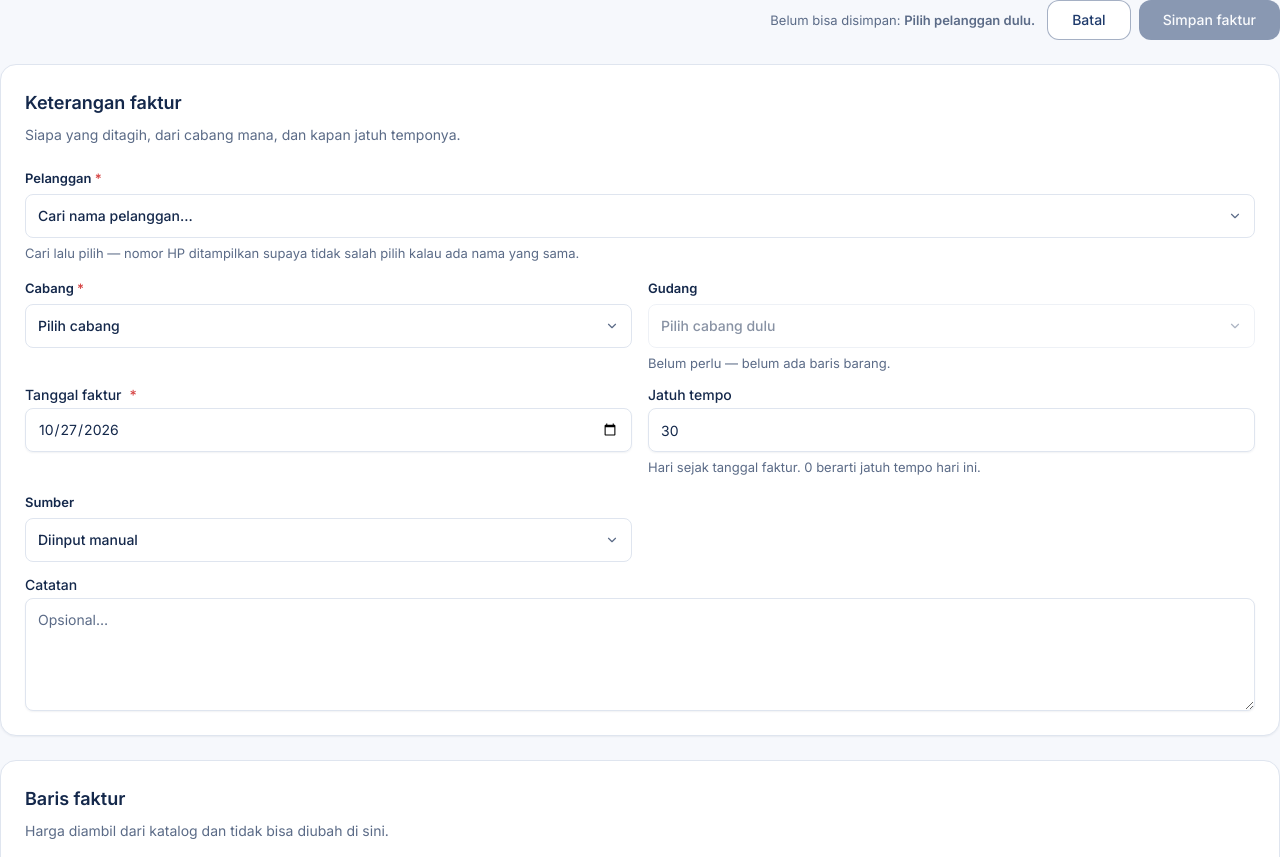
Test: scanning a barcode › a batch label › still adds the product from a lot recorded empty, and says so
Click the button "Pilih cabang". click: (79, 325)
box: [25, 304, 632, 348]
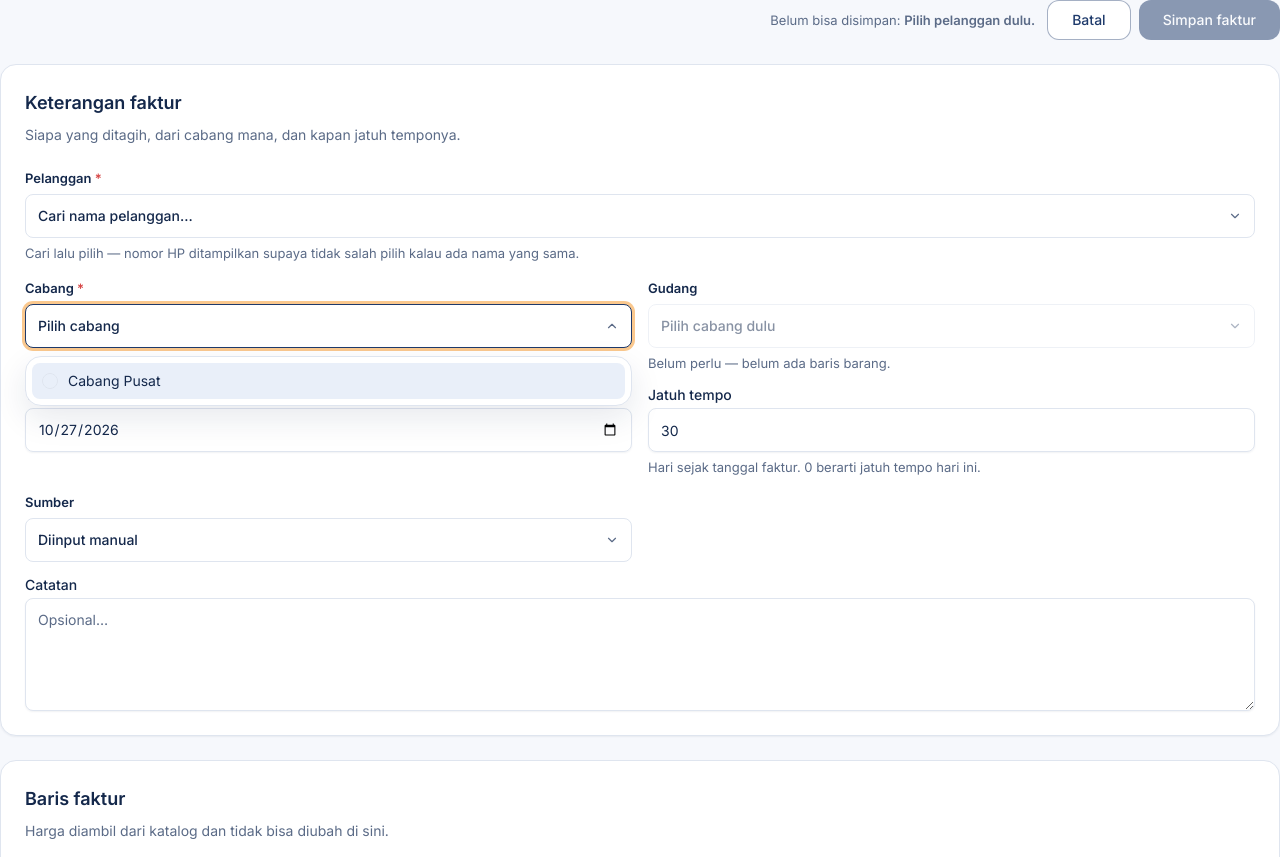
Click the option "Cabang Pusat". click: (114, 380)
box: [32, 363, 625, 399]
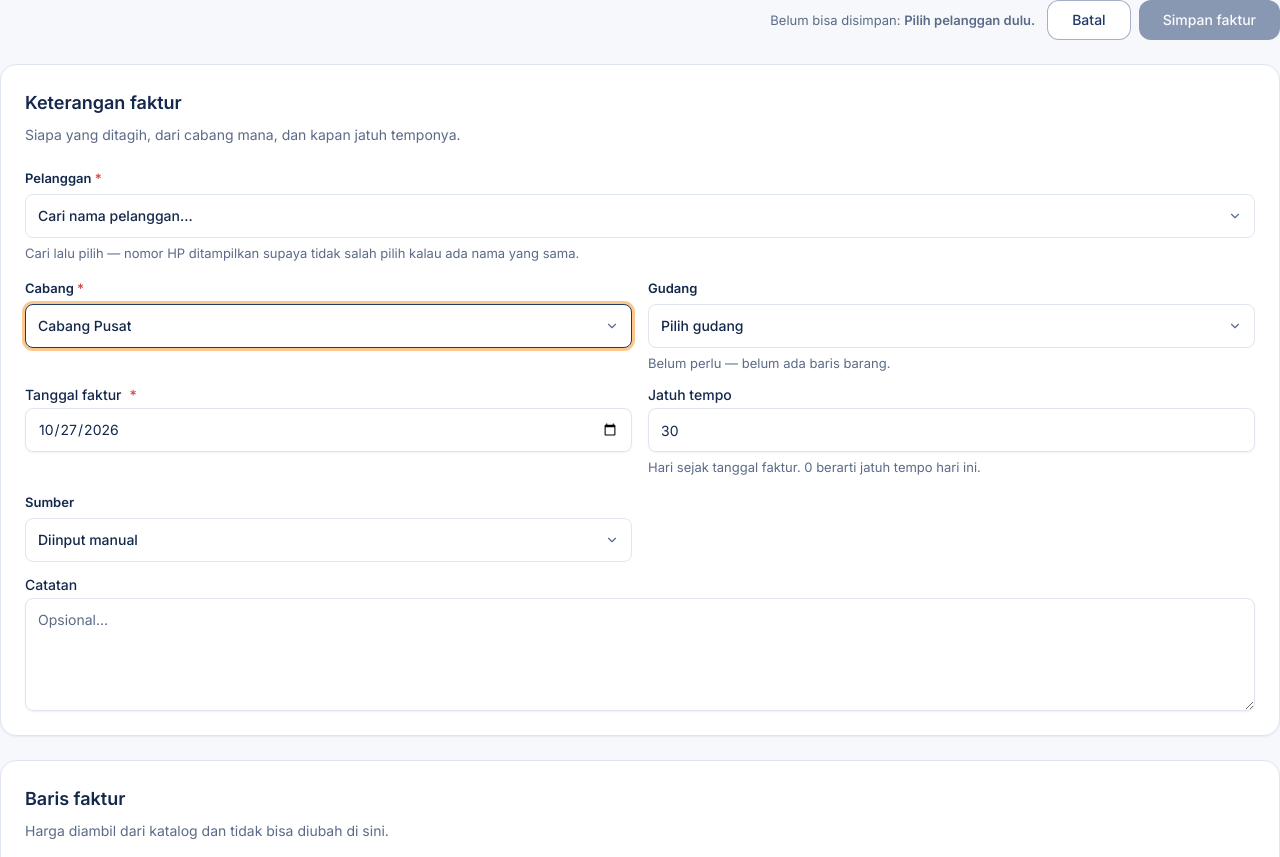
Click the button "Pilih gudang". click: (702, 325)
box: [648, 304, 1255, 348]
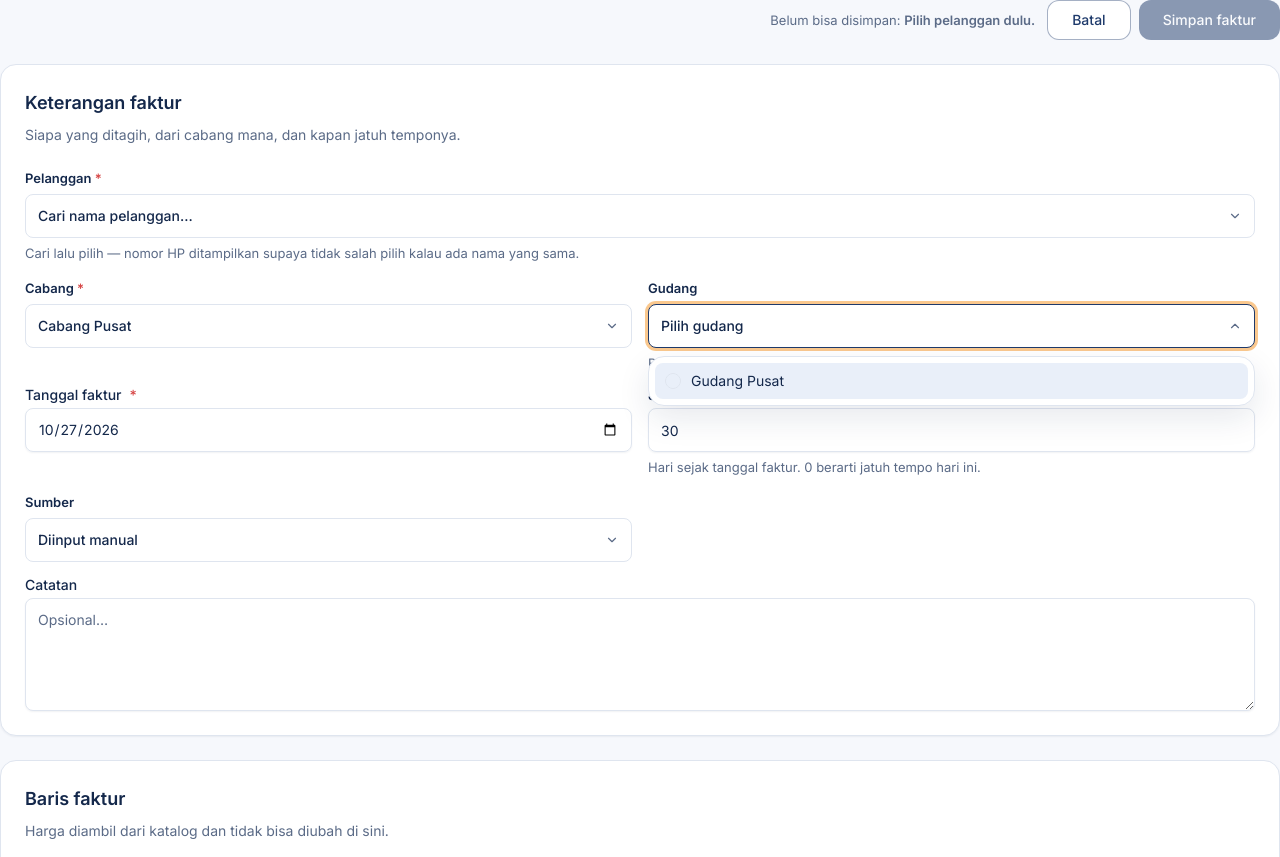
Click the option "Gudang Pusat". click: (738, 380)
box: [655, 363, 1248, 399]
(page scrolled)
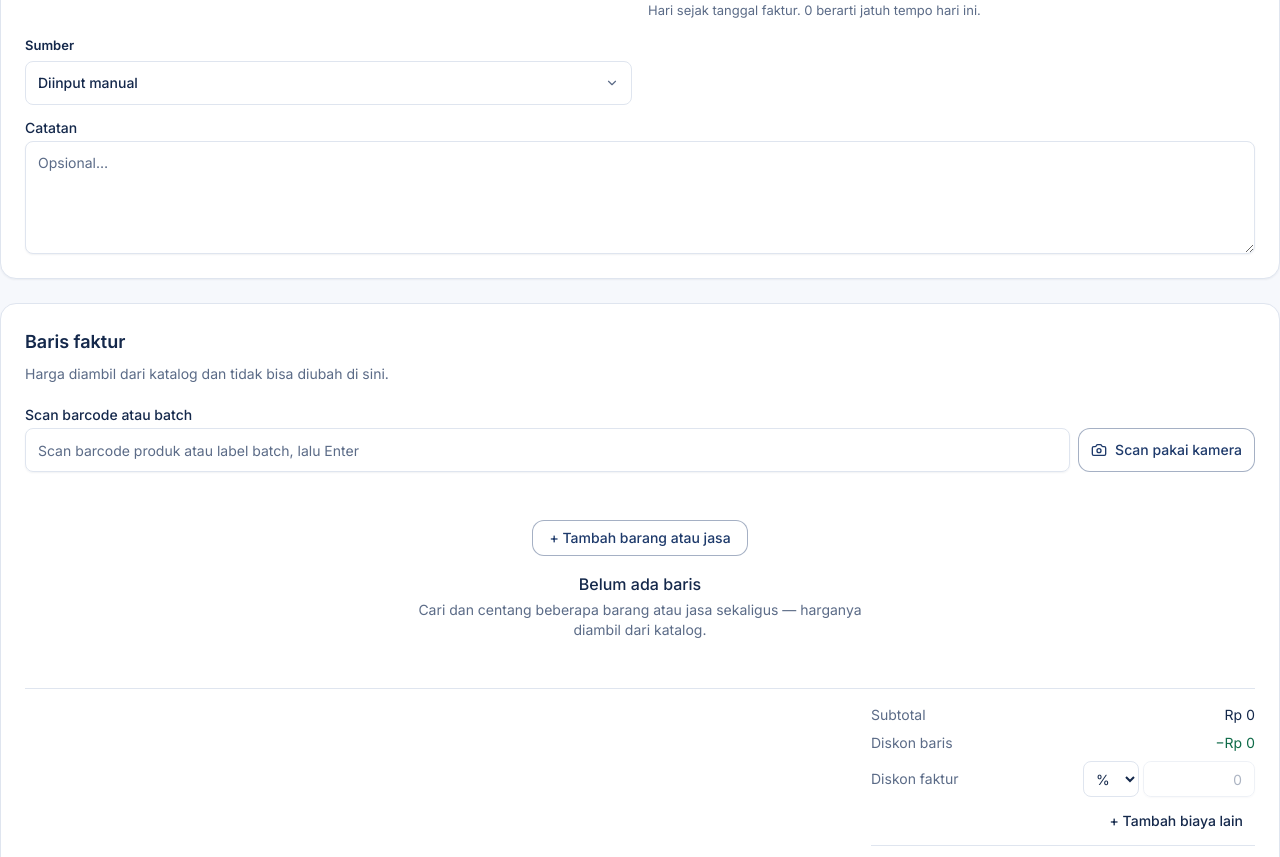
Type "KLG-B26-0001" into the field labelled "Scan barcode atau batch". click: (548, 450)
box: [25, 428, 1070, 472]
Then press Enter
(page scrolled)
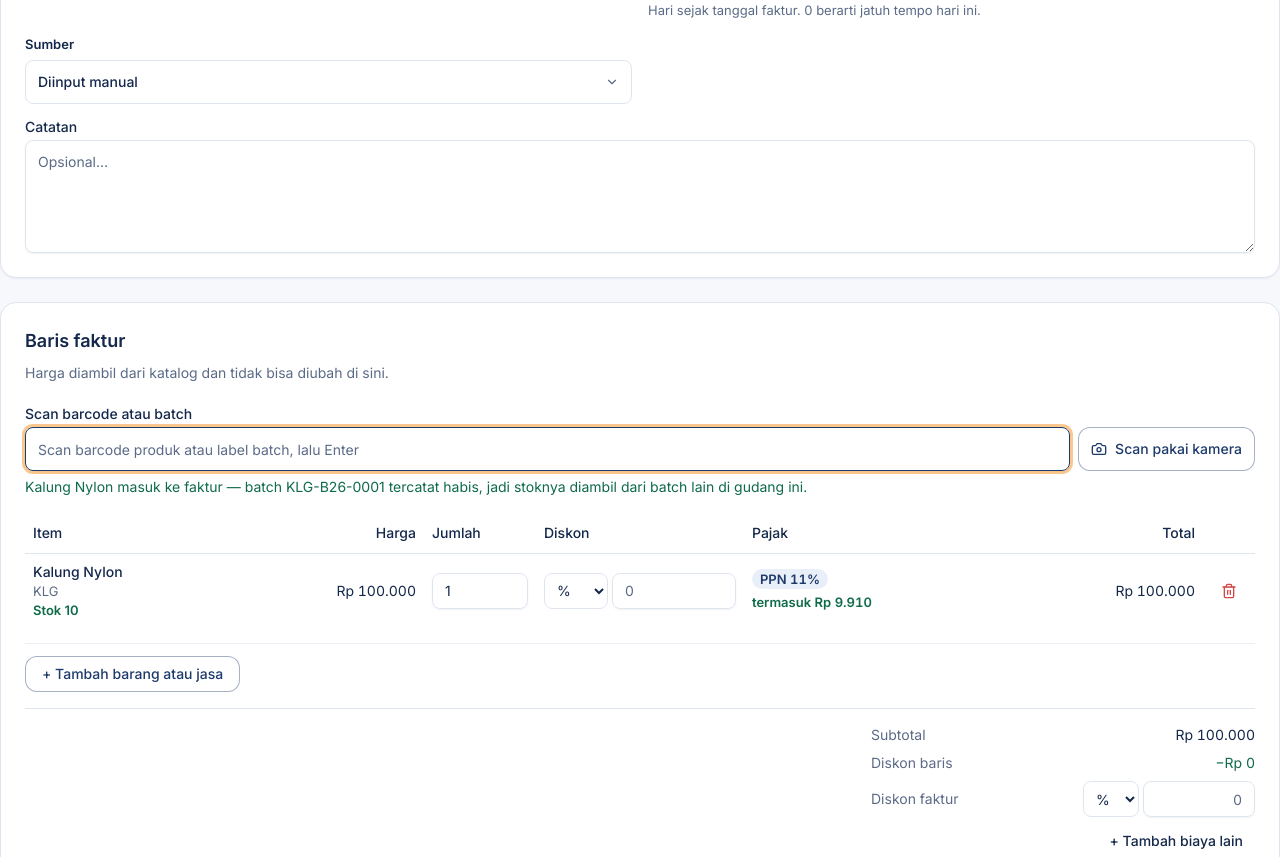
Expected: the button named "Hapus Kalung Nylon" is shown, [1211, 575, 1247, 607]
Expected: the text "tercatat habis" is shown, [25, 478, 807, 495]
